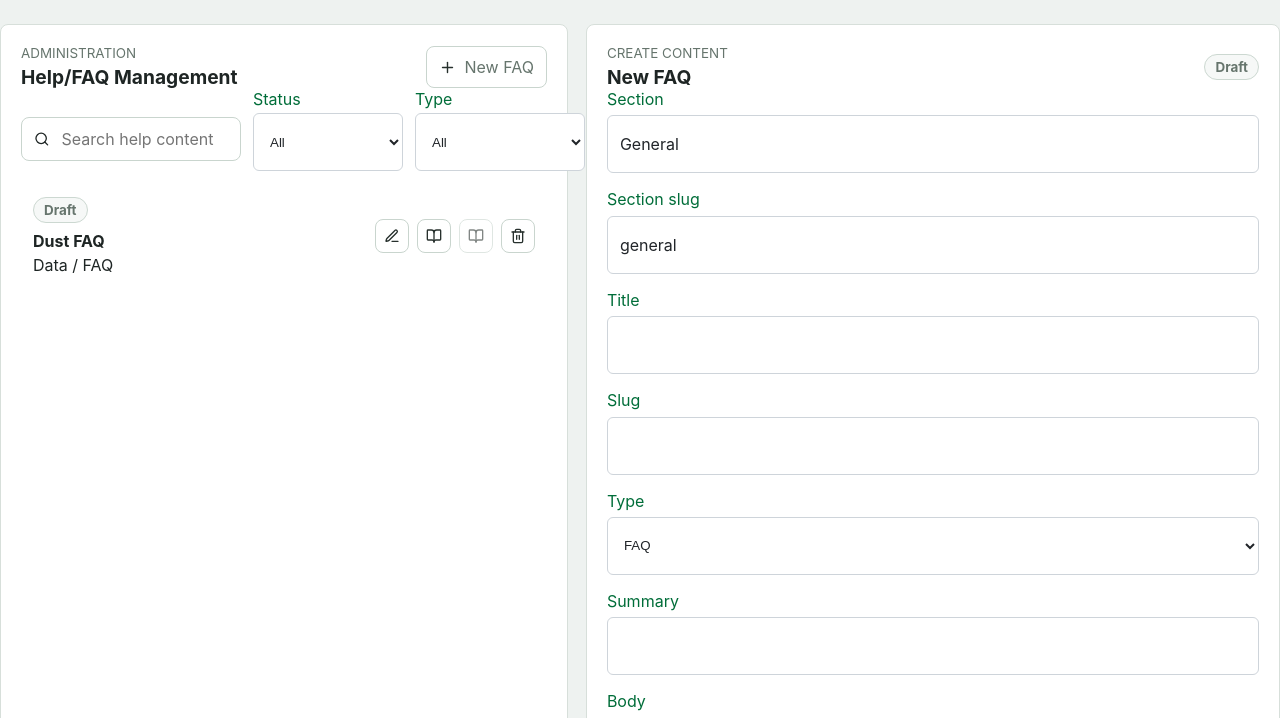
HelpAdminPanel › keeps newer filter results when an older mutation refresh resolves last
Click the button named "Publish Dust FAQ": click(434, 236) left=417, top=219, right=451, bottom=253
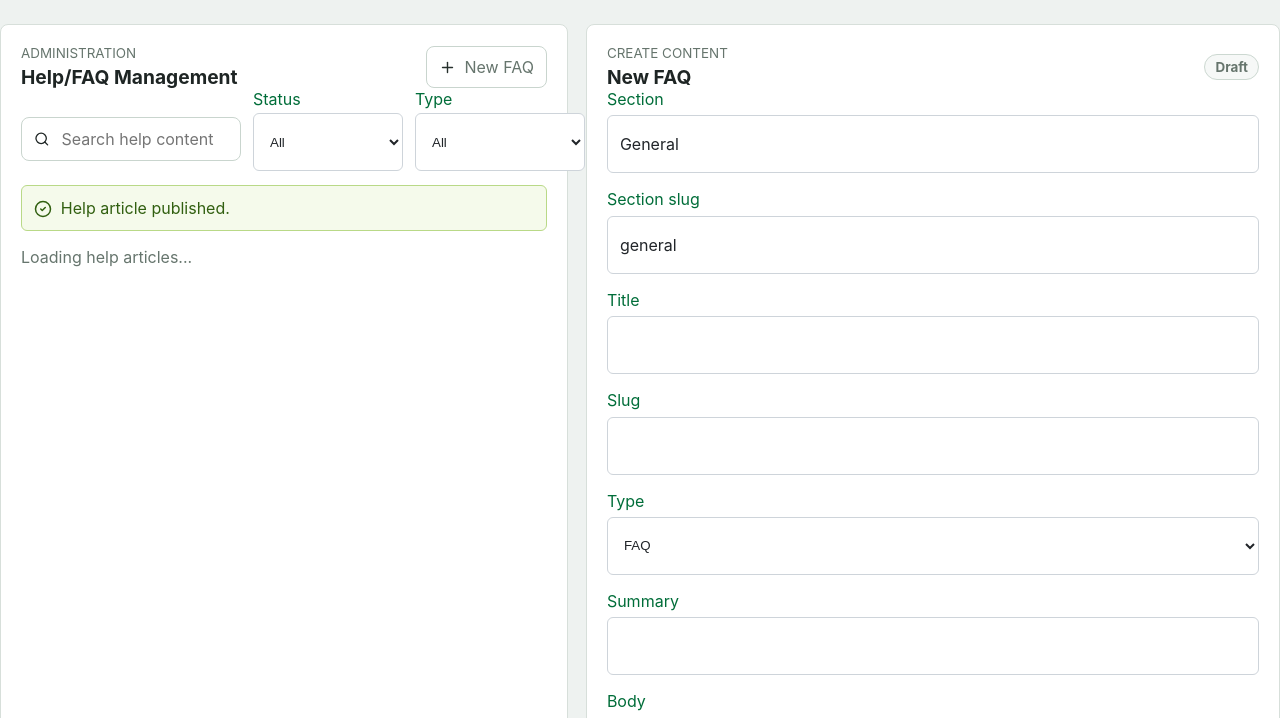
Select "Draft" in the dropdown labelled "Status": (328, 142) left=253, top=113, right=403, bottom=171
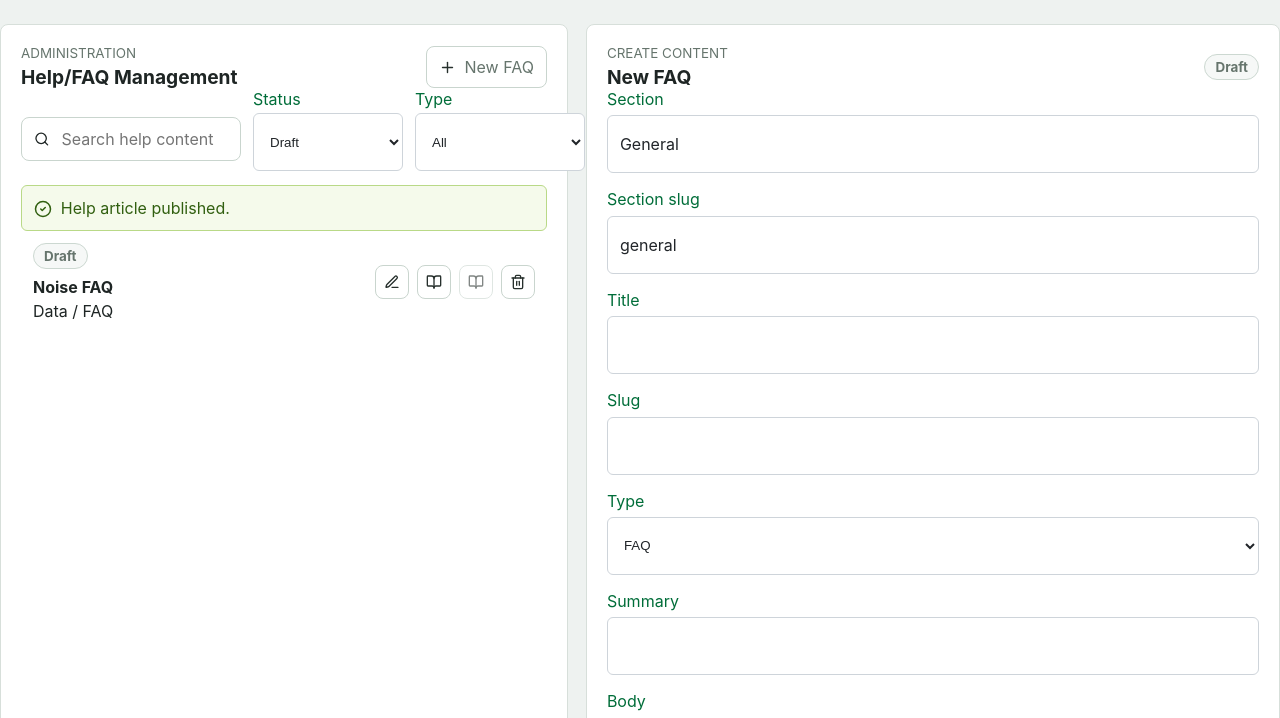
Check: the button named "Publish Noise FAQ" is shown, box left=417, top=265, right=451, bottom=299
